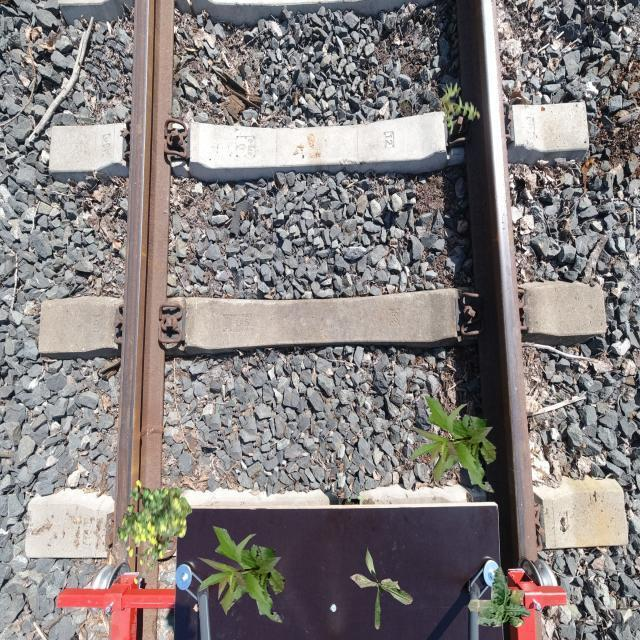Plant: (196, 526, 284, 624), (408, 395, 496, 492), (118, 480, 193, 585), (350, 546, 414, 630), (467, 566, 530, 628), (439, 82, 481, 136)
